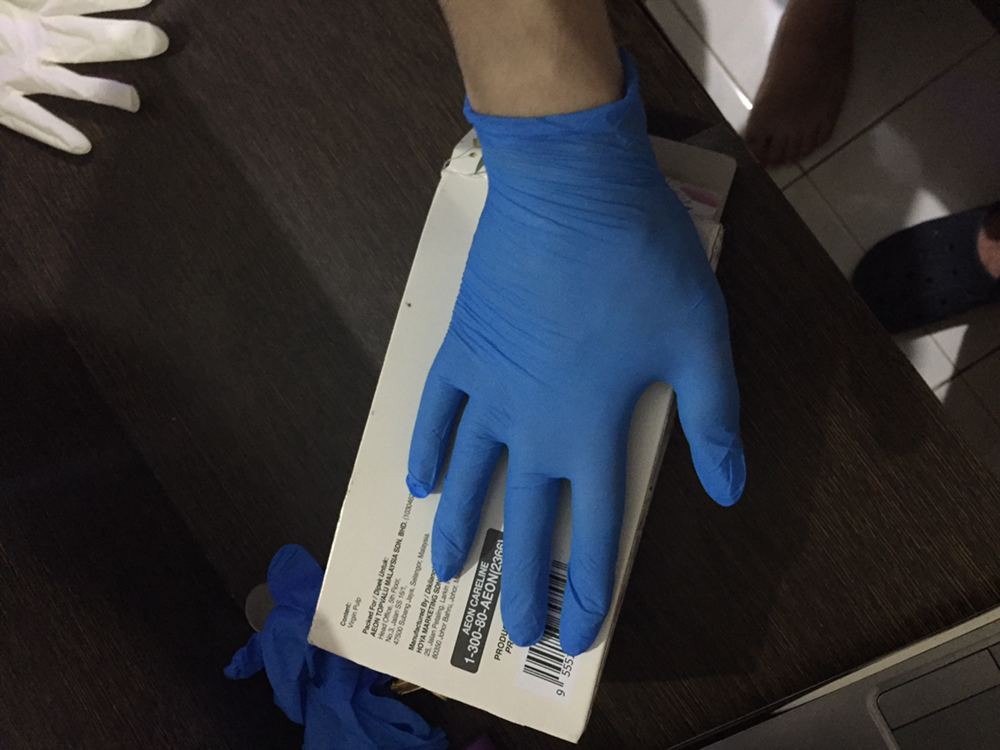glove: (391, 146, 829, 668)
